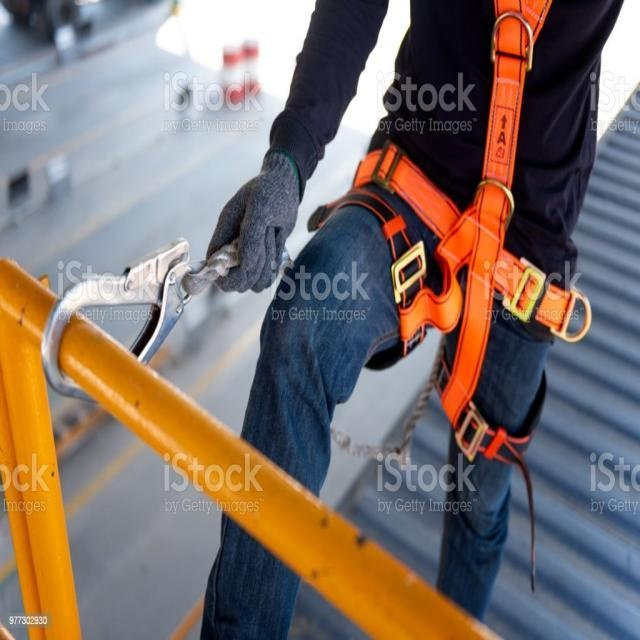Arnes_seguridad: (347, 0, 612, 469)
